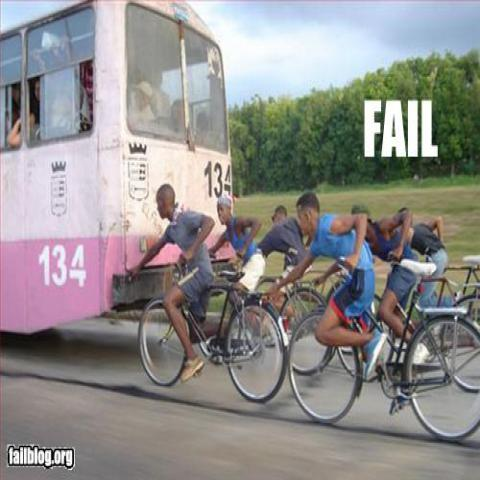bus: (2, 1, 234, 337)
